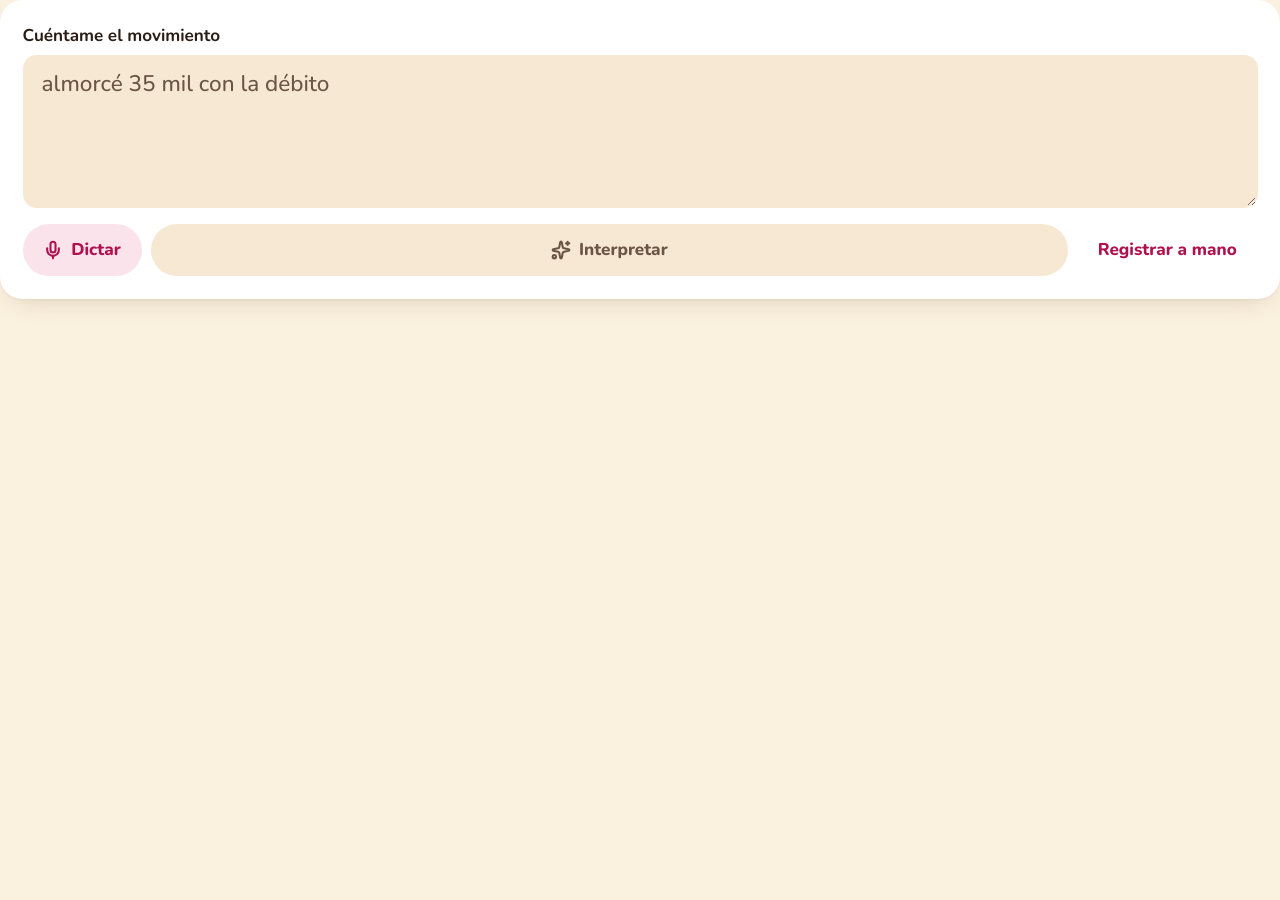
Test case: RegisterFlow › prefills the form from the draft and saves as voice
Type "almorcé 35 mil" into the text box labelled "Cuéntame el movimiento" at (640, 131), box [22,55,1258,208]
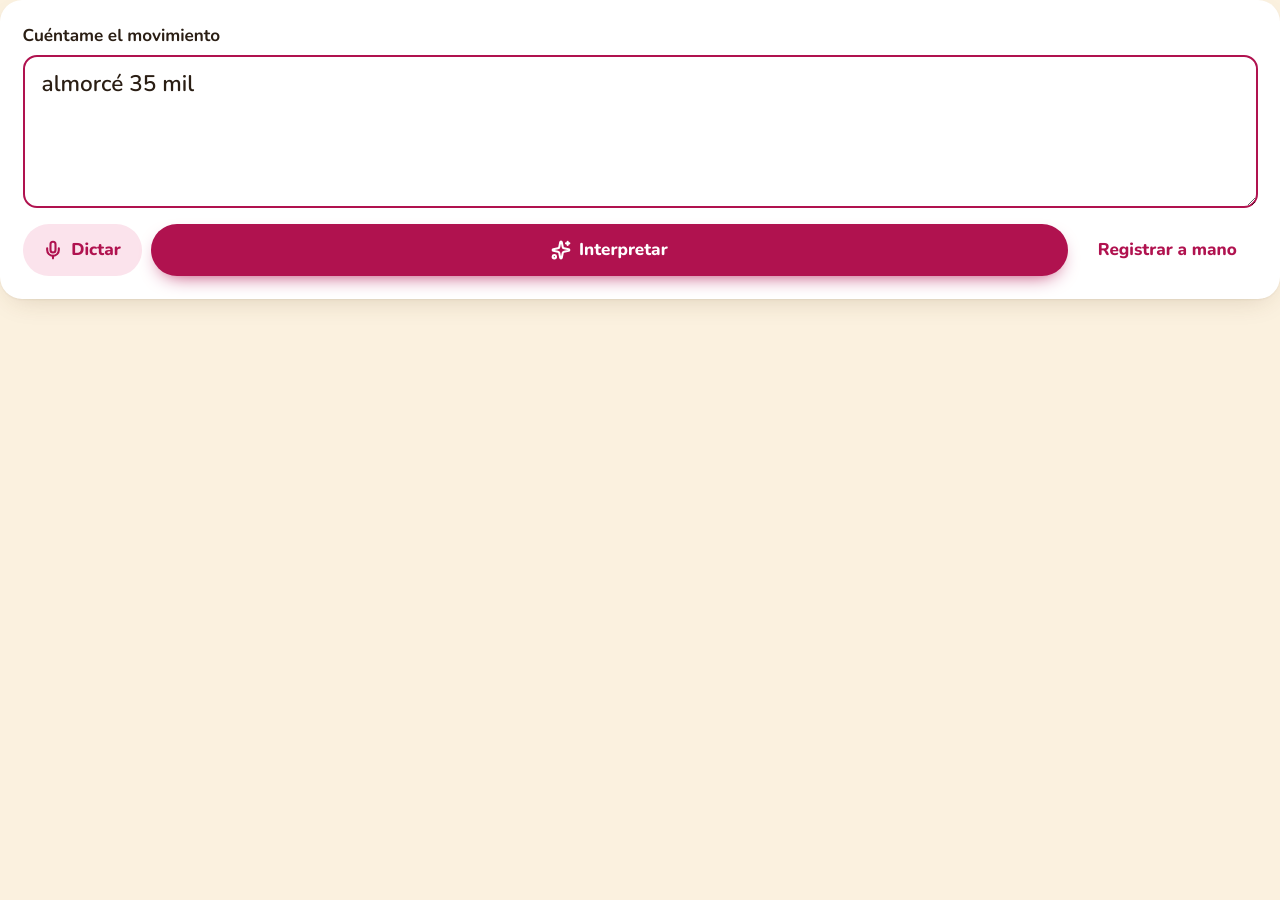
Click the button "Interpretar" at (609, 250), box [150,224,1068,276]
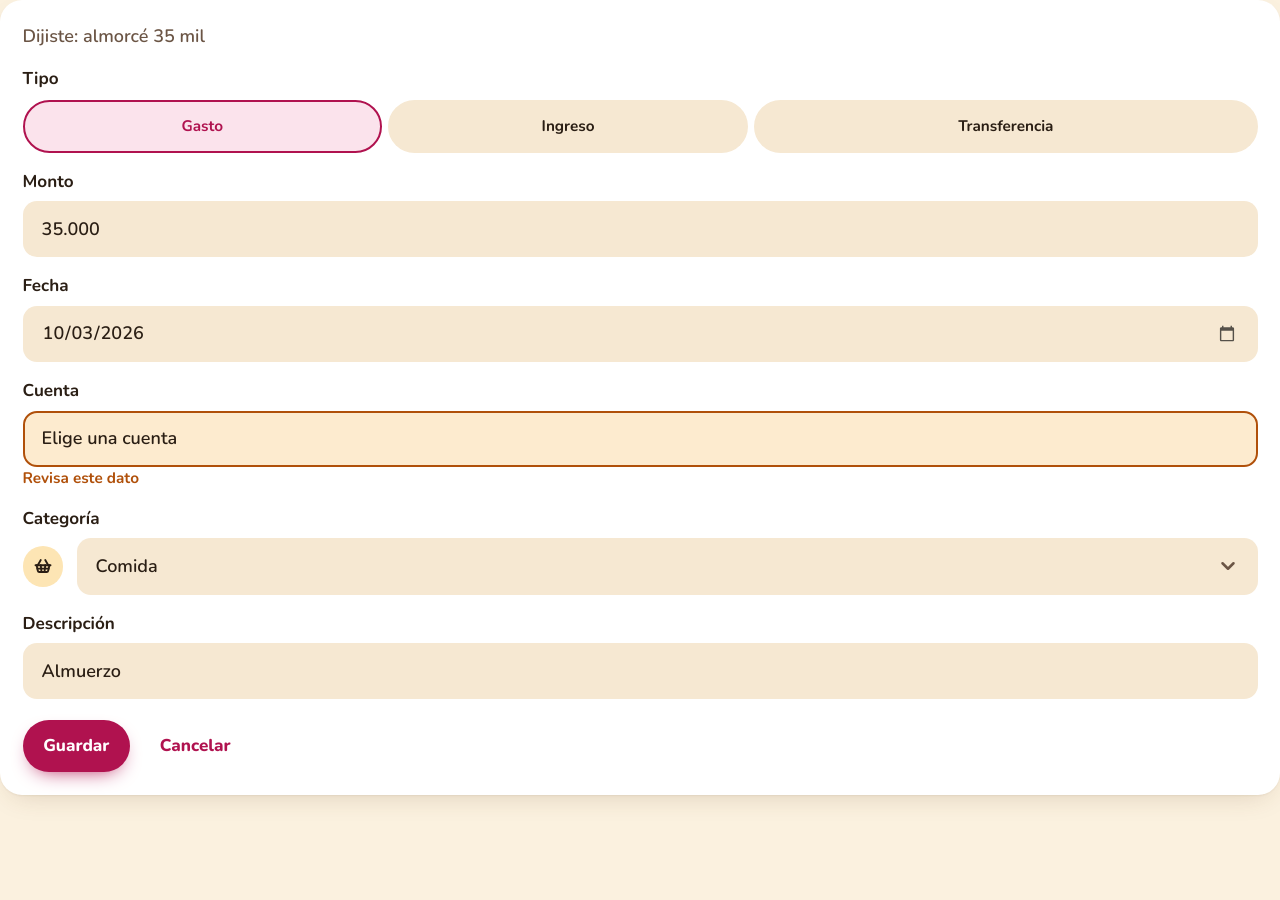
Check: the field labelled "Monto" holds "35.000", box [22,201,1258,257]
Select "Bancolombia" in the dropdown labelled "Cuenta" at (640, 439), box [22,411,1258,467]
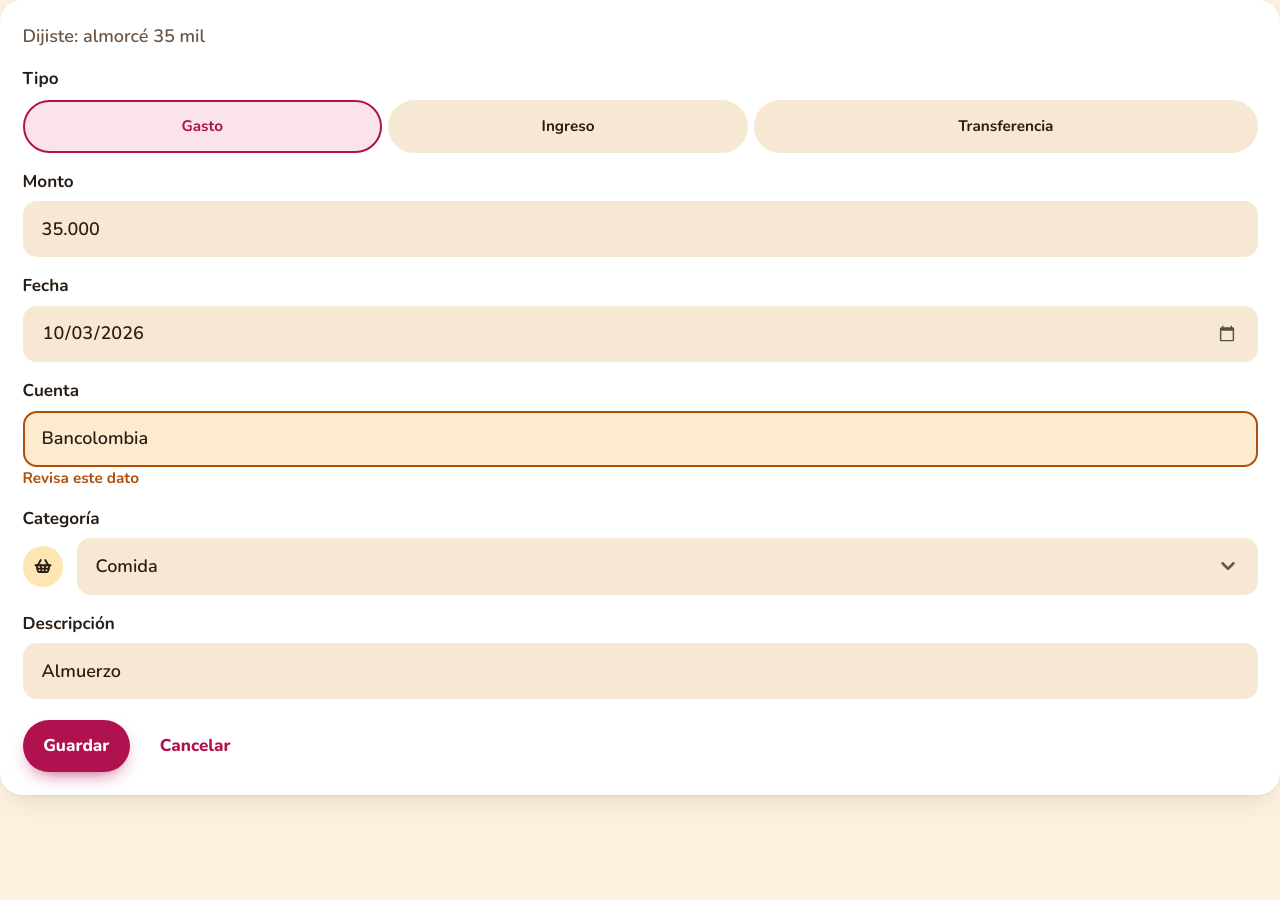
Click the button "Guardar" at (76, 746), box [22,720,130,772]
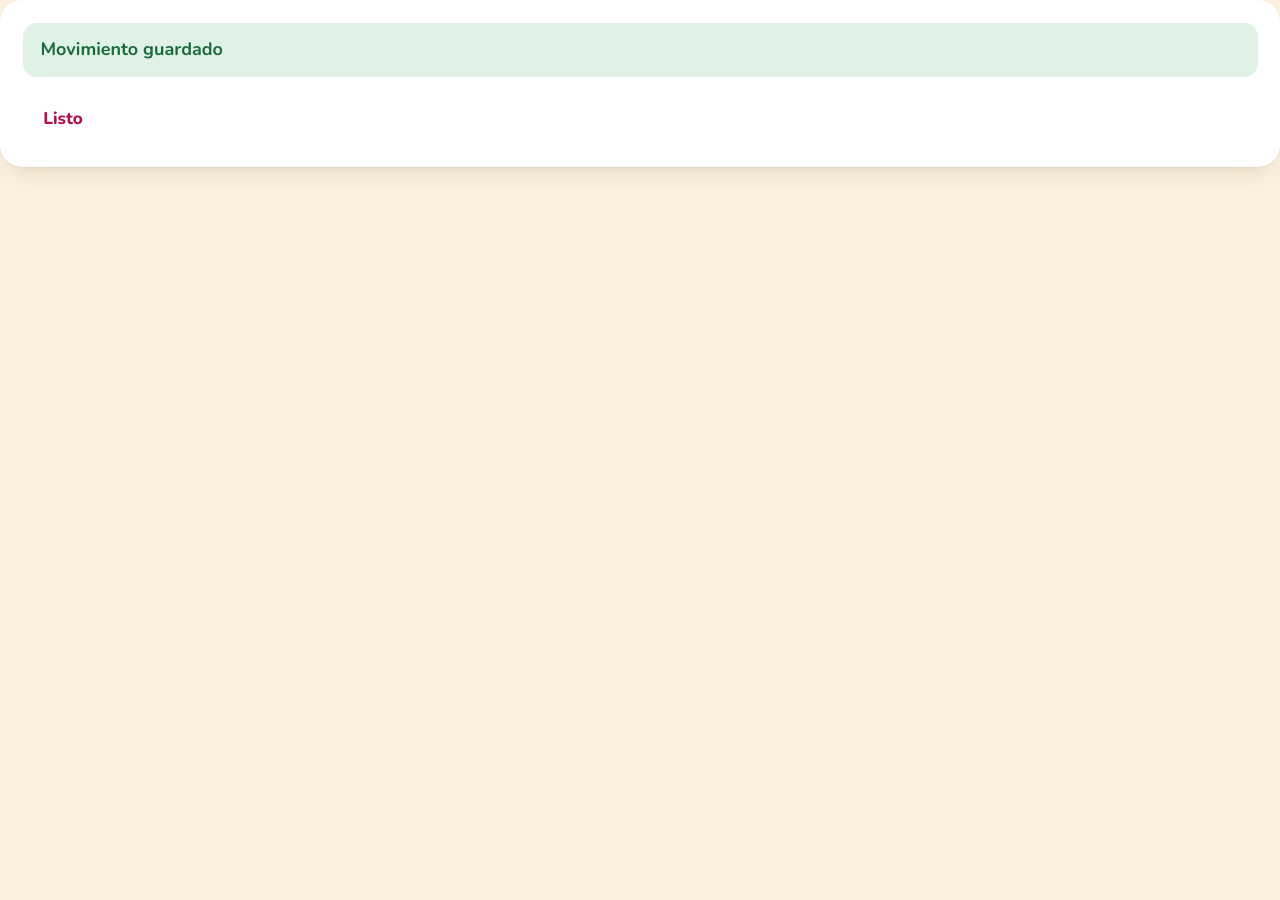
Check: the text "Movimiento guardado" is shown, box [22,22,1258,76]
